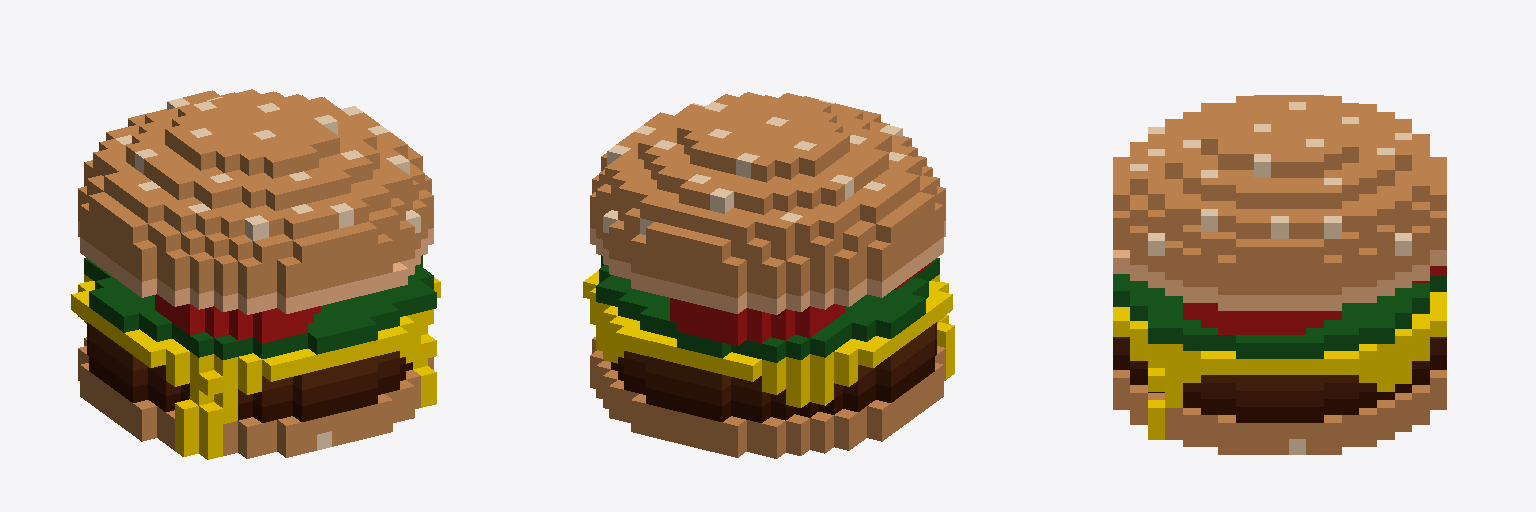
The picture shows the model from 3 angles: view 1: azimuth 30°, elevation 25°; view 2: azimuth 150°, elevation 25°; view 3: azimuth 270°, elevation 25°; orthographic projection.
Parts seen in each view (by area): view 1: object 1; view 2: object 1; view 3: object 1.
Boxes of the visible parts, x1=… form: object 1: x1=71, y1=89, x2=440, y2=459; object 1: x1=583, y1=92, x2=954, y2=458; object 1: x1=1113, y1=95, x2=1446, y2=454.
Bounding box in the file's own units: 1.9 × 1.6 × 1.9.
Materials: 1 (1 with a texture image).